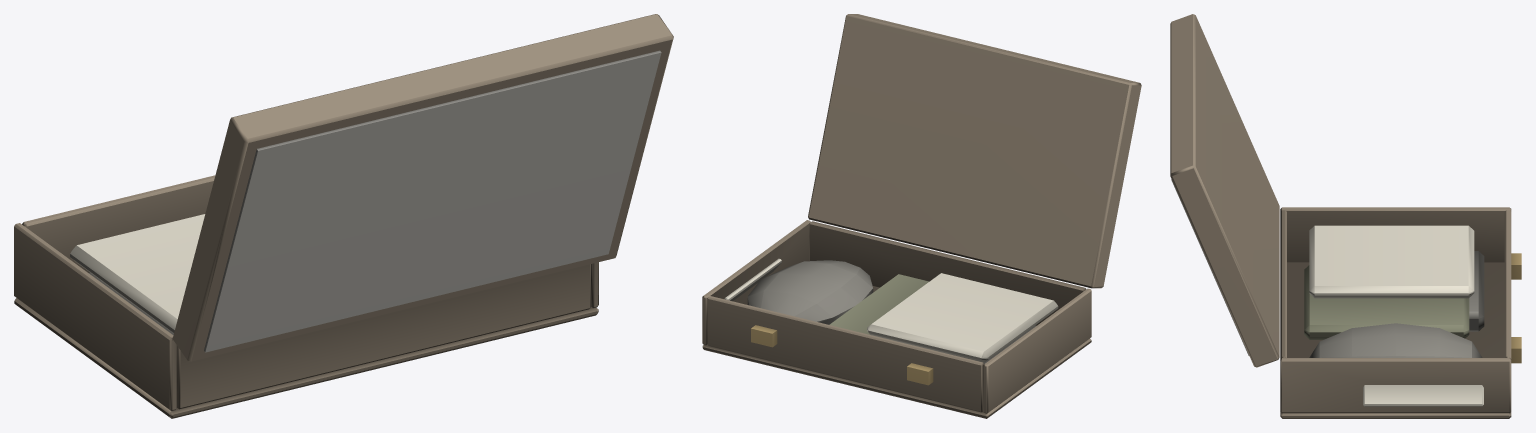
File: suitcase_open.glb
3 views of the same model, side by side, from view 1: azimuth 30°, elevation 25°; view 2: azimuth 150°, elevation 25°; view 3: azimuth 270°, elevation 25° (orthographic). The views are drawn at different scales.
Parts seen in each view (by area): view 1: static; view 2: static; view 3: static.
Part boxes in pixels (x1=…): static: x1=14, y1=14, x2=673, y2=418; static: x1=702, y1=14, x2=1141, y2=418; static: x1=1170, y1=14, x2=1521, y2=418.
Size of the model in its own units: 0.6821 by 0.5087 by 0.6394.
